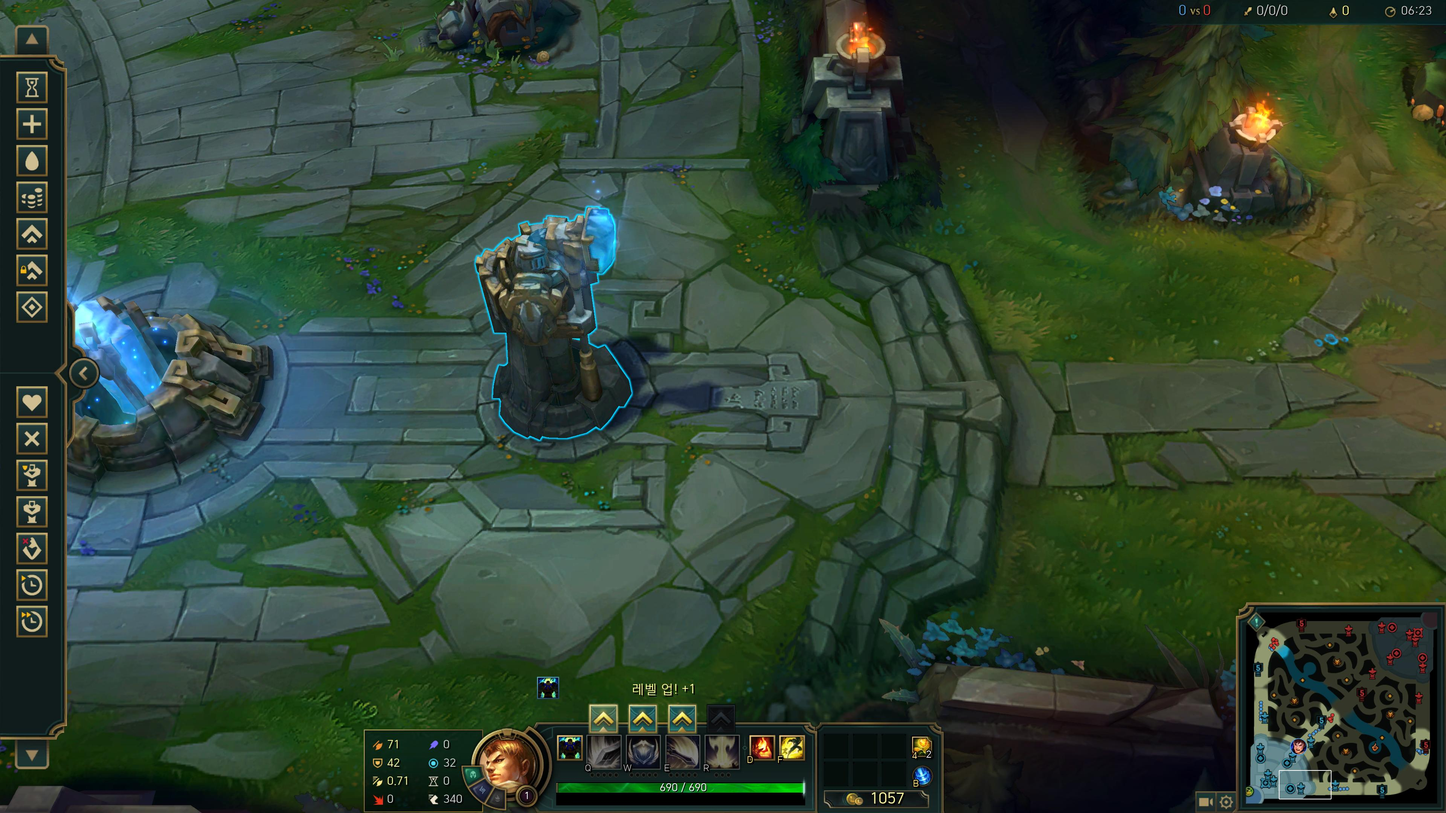ally-inhibitor: (103, 273, 288, 528)
ally-tower: (474, 206, 657, 462)
